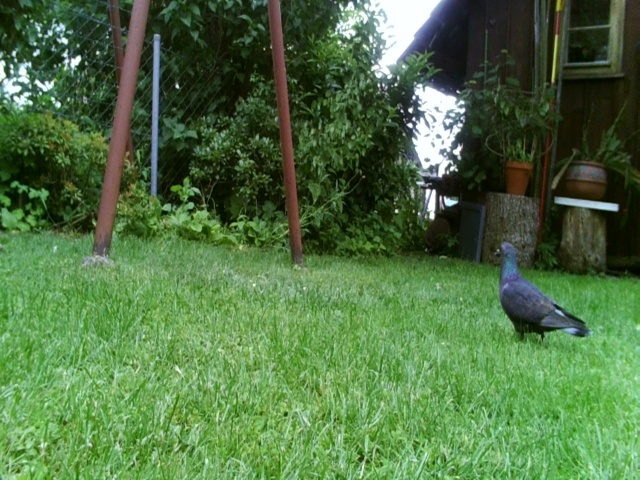Pigeon: (484, 233, 600, 351)
